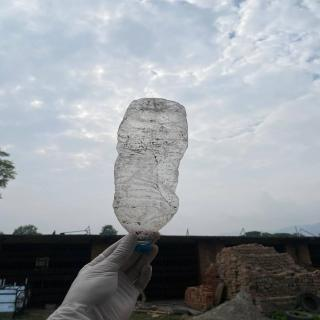Plastic-bottle: (112, 96, 193, 253)
